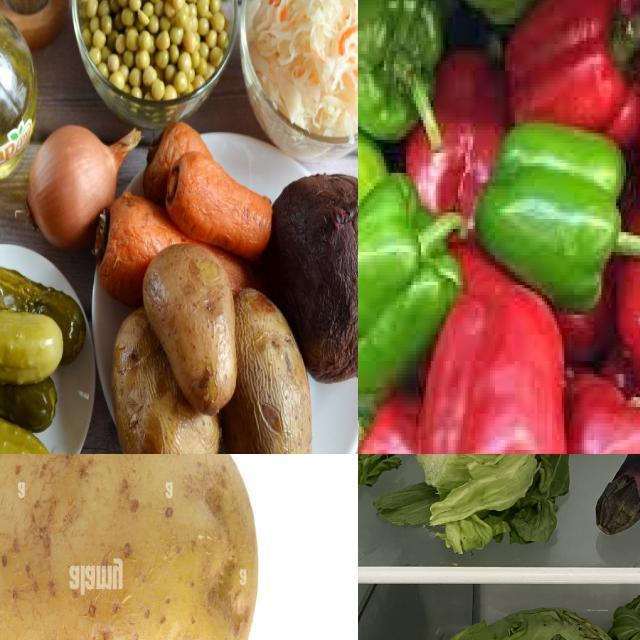beet: (285, 186, 359, 359)
bell_pepper: (467, 121, 640, 315), (359, 176, 476, 399), (435, 269, 569, 455), (359, 1, 454, 160), (522, 363, 640, 455)
cabbage: (359, 455, 575, 559), (384, 596, 640, 640)
cucumber: (1, 266, 72, 345), (1, 296, 59, 383), (1, 394, 51, 455)
eggplant: (592, 455, 640, 536)
onion: (31, 133, 120, 228)
potato: (1, 455, 258, 640), (146, 259, 238, 399), (106, 328, 202, 455), (227, 301, 305, 455)
